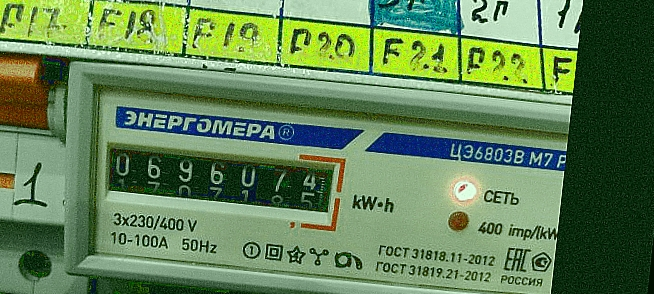0: (237, 160, 257, 188), (111, 150, 132, 176)
4: (299, 166, 318, 190)
5: (297, 189, 315, 211)
6: (205, 157, 226, 186), (143, 152, 163, 179)
7: (269, 165, 288, 193)
9: (174, 155, 193, 182)
screen: (89, 128, 349, 235)
